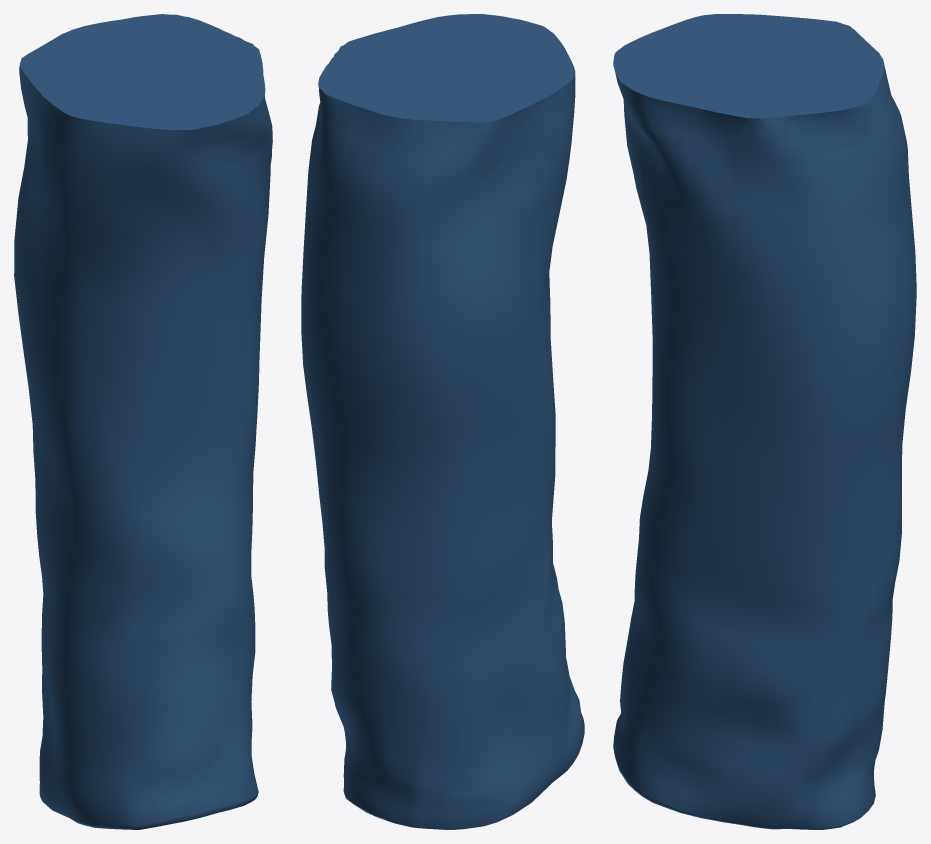
File: calf_l.fbx
The picture shows the model from 3 angles, left to right: view 1: azimuth 30°, elevation 25°; view 2: azimuth 150°, elevation 25°; view 3: azimuth 270°, elevation 25°; orthographic projection. The views are drawn at different scales.
Parts seen in each view (by area): view 1: calf_l-1; view 2: calf_l-1; view 3: calf_l-1.
Boxes of the visible parts, x1,y1,x2,y2 form: calf_l-1: [14, 14, 272, 829]; calf_l-1: [301, 14, 584, 829]; calf_l-1: [613, 14, 916, 829].
Bounding box in the file's own units: 0.3574 × 0.1335 × 0.1154.
